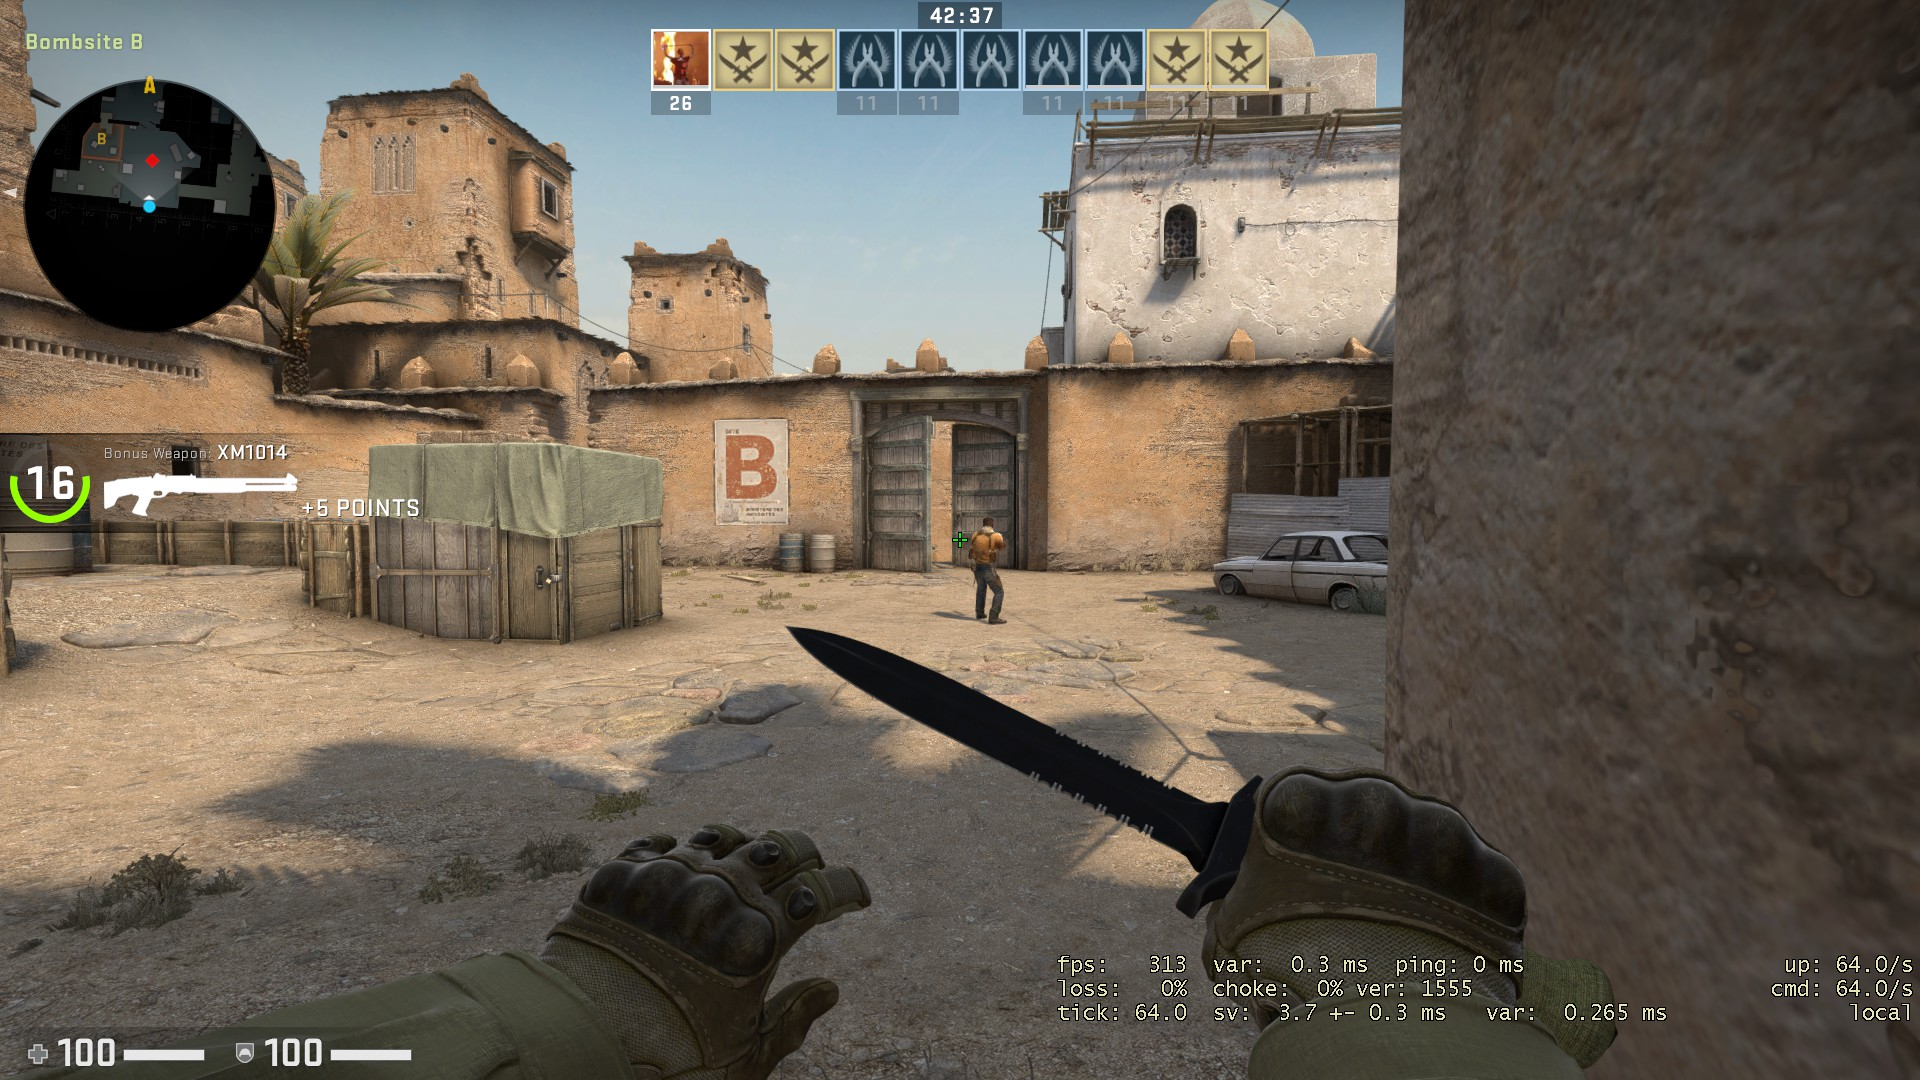player: (963, 512, 1011, 627)
